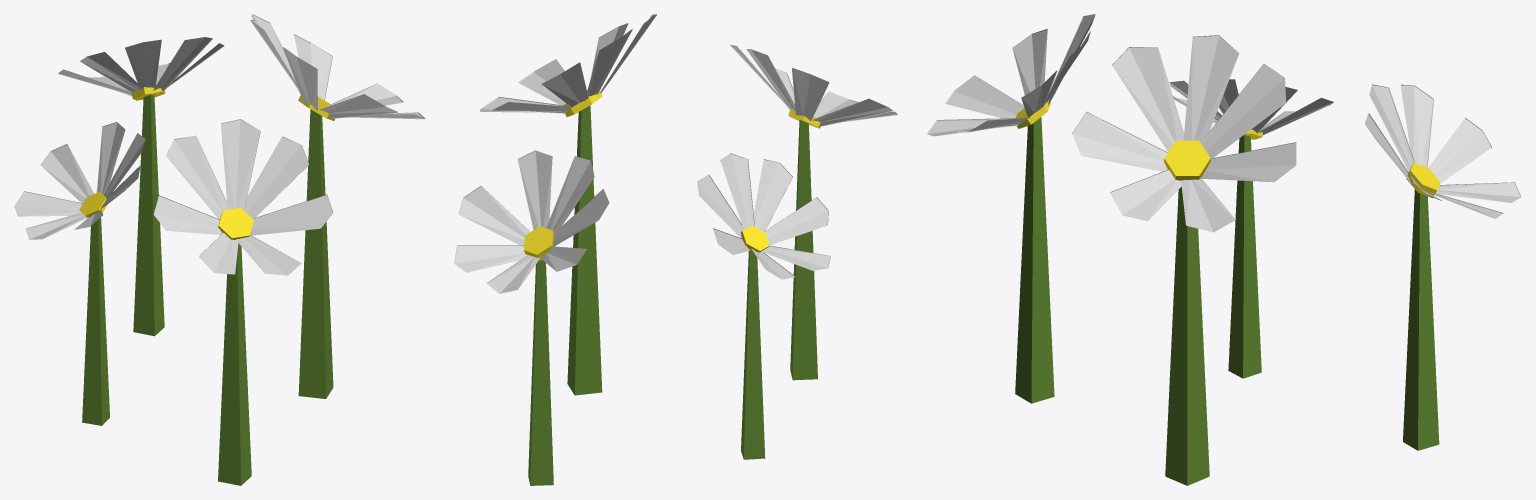
The model's file is daisy.glb.
3 renders of one model, left to right at view 1: azimuth 30°, elevation 25°; view 2: azimuth 150°, elevation 25°; view 3: azimuth 270°, elevation 25°, orthographic. The views are drawn at different scales.
Visible parts, largest first — view 1: Daisys_Circle.003; view 2: Daisys_Circle.003; view 3: Daisys_Circle.003.
Boxes of the visible parts, bbox=[...] form: Daisys_Circle.003: bbox=[14, 14, 425, 485]; Daisys_Circle.003: bbox=[454, 14, 897, 485]; Daisys_Circle.003: bbox=[926, 14, 1521, 485].
Bounding box in the file's own units: 1.17 × 1.17 × 1.53.
